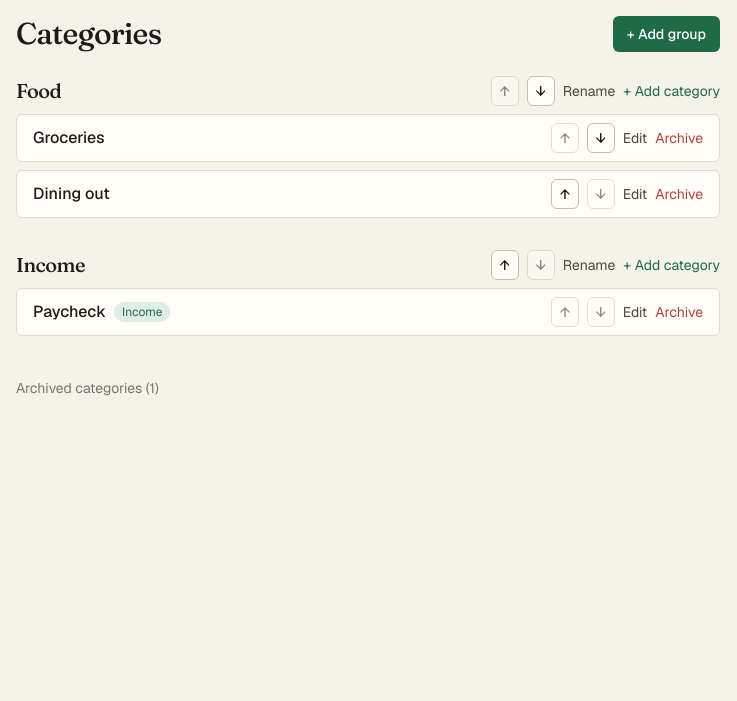
CategoriesPage › re-prefills the edit form when switching Edit between categories
The width and height of the screenshot is (737, 701).
Expected: the element "Food" is shown, [16, 76, 720, 218]
Click the button "Edit" in the row of "Groceries": coordinates (635, 138) [623, 128, 647, 148]
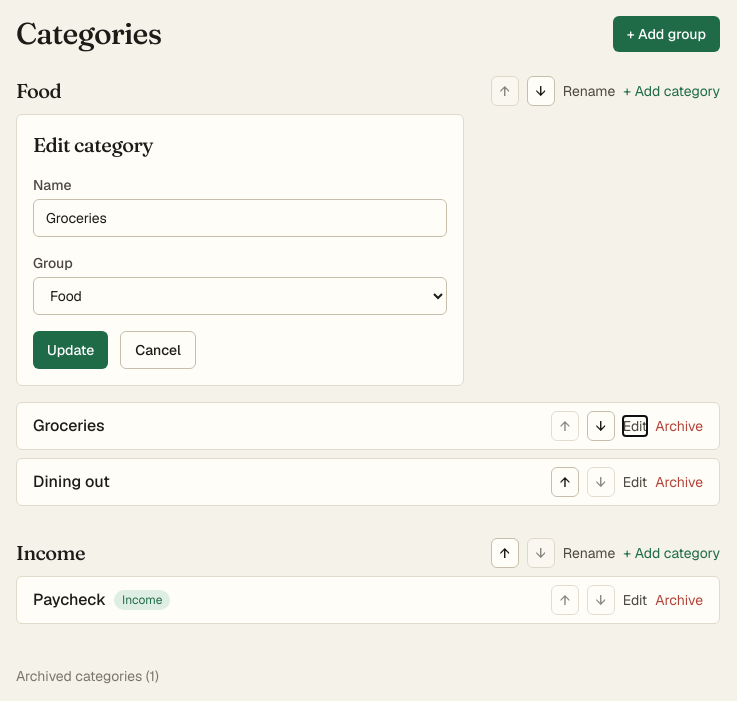
Result: the field labelled "Name" holds "Groceries" at [33, 199, 447, 237]
Click the button "Edit" in the row of "Dining out": coordinates (635, 482) [623, 472, 647, 492]
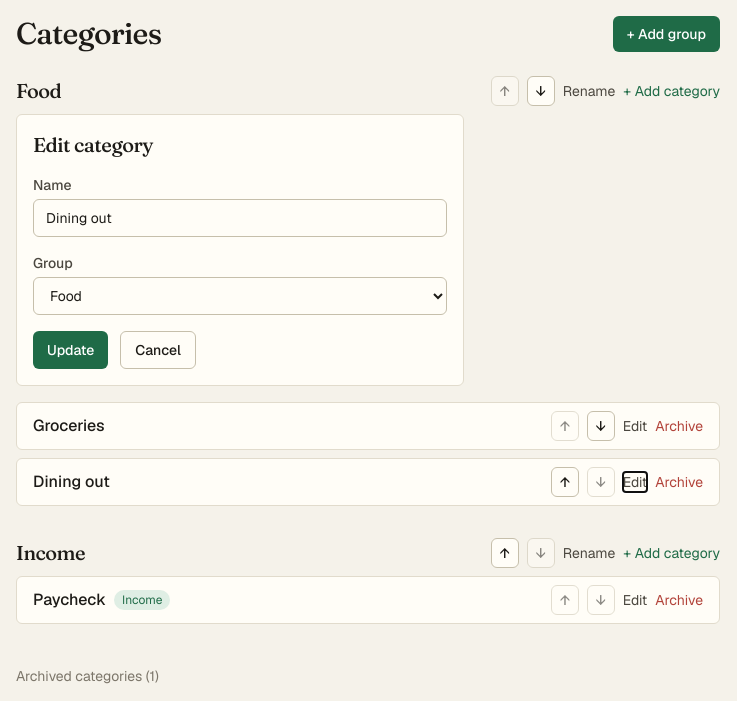
Result: the field labelled "Name" holds "Dining out" at [33, 199, 447, 237]
